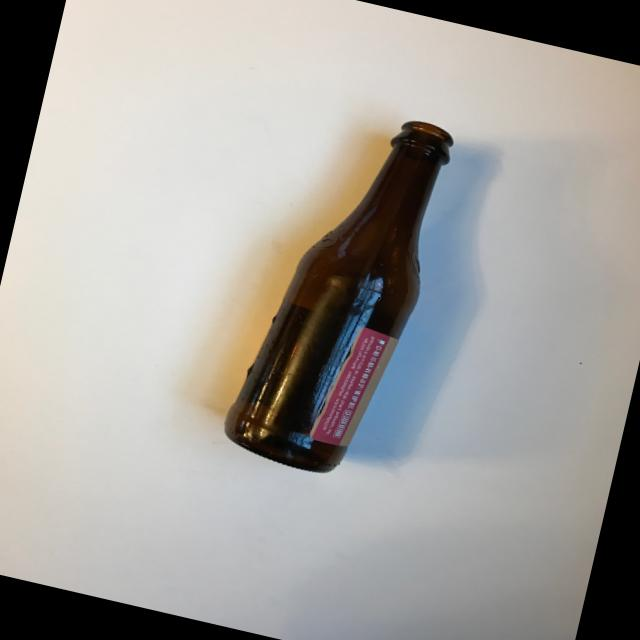glass: (217, 92, 458, 486)
